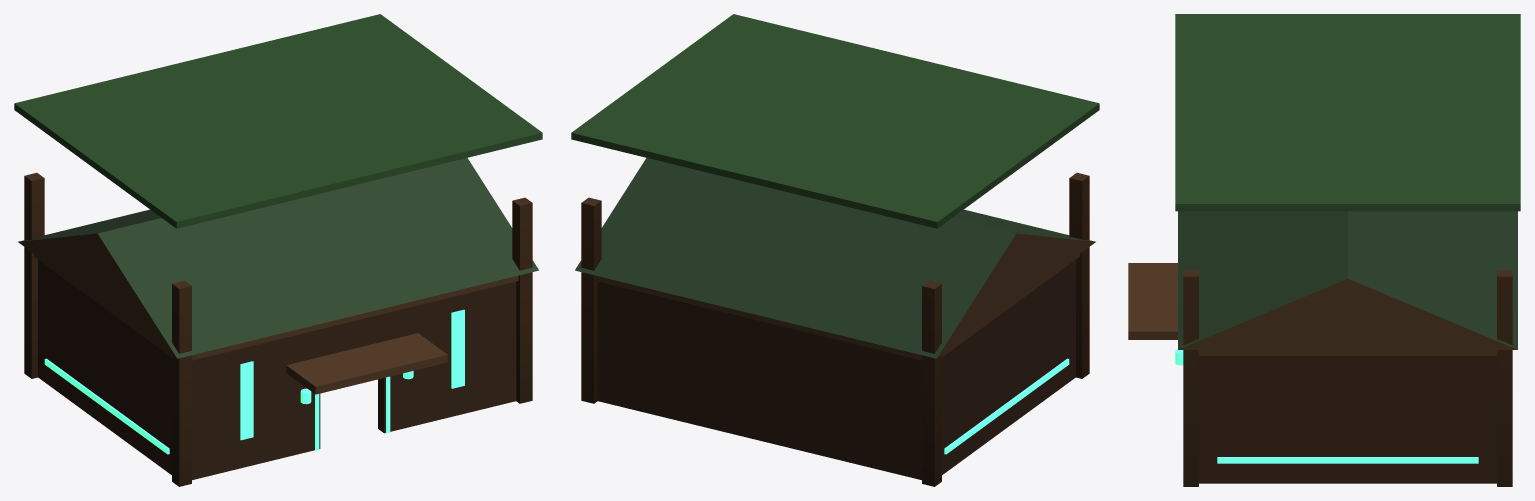
Rendered from shaddai_dist_forest_b1_v01.glb.
The picture shows the model from 3 angles, left to right: view 1: azimuth 30°, elevation 25°; view 2: azimuth 150°, elevation 25°; view 3: azimuth 270°, elevation 25°; orthographic projection. The views are drawn at different scales.
Visible parts, largest first — view 1: shaddai_dist_forest_b1; view 2: shaddai_dist_forest_b1; view 3: shaddai_dist_forest_b1.
Boxes of the visible parts, left/top/right/bottom form: shaddai_dist_forest_b1: left=14, top=14, right=542, bottom=486; shaddai_dist_forest_b1: left=571, top=14, right=1099, bottom=486; shaddai_dist_forest_b1: left=1128, top=14, right=1520, bottom=486.
Size of the model in its own units: 17.2 by 12.08 by 15.
